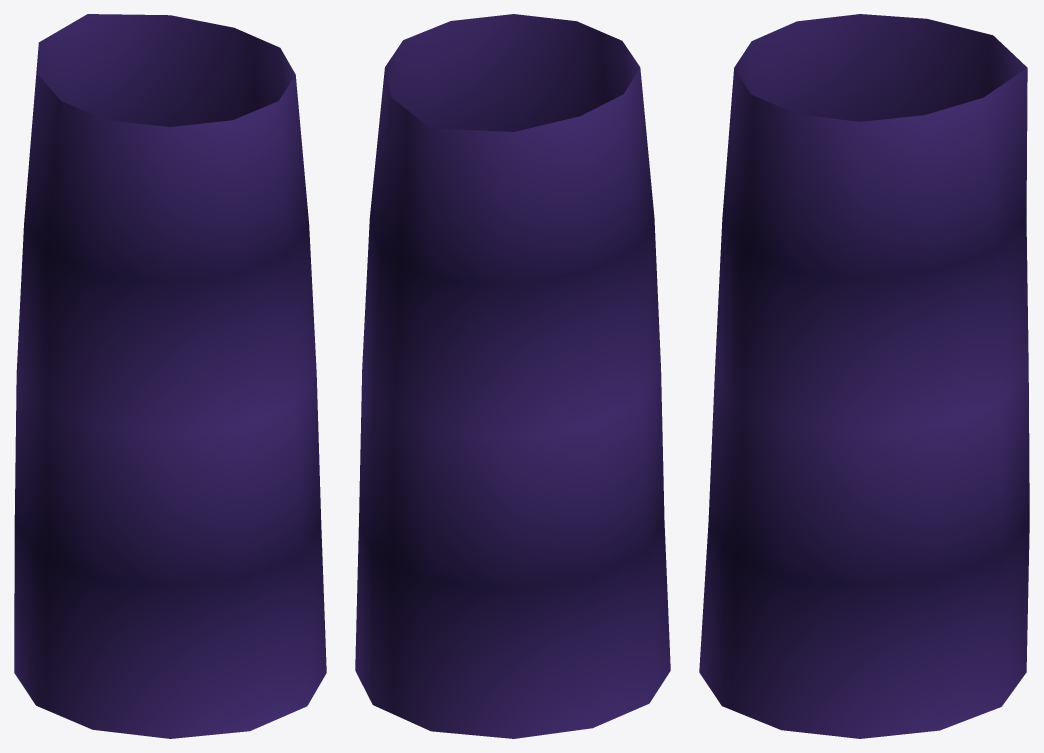
The model's file is beetle_armor_greave.R.glb.
3 views of the same model, side by side, from view 1: azimuth 30°, elevation 25°; view 2: azimuth 150°, elevation 25°; view 3: azimuth 270°, elevation 25° (orthographic).
Parts seen in each view (by area): view 1: beetle_armor_greave.R; view 2: beetle_armor_greave.R; view 3: beetle_armor_greave.R.
Part boxes in pixels (x1,y1,x2,y2): beetle_armor_greave.R: (14, 14, 326, 738); beetle_armor_greave.R: (355, 14, 670, 738); beetle_armor_greave.R: (699, 14, 1029, 738).
Size of the model in its own units: 0.1776 by 0.3767 by 0.1866.
